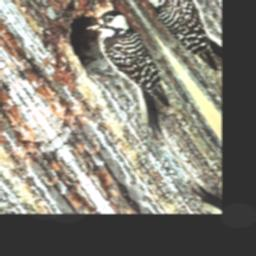Woodpecker: (75, 1, 194, 142)
